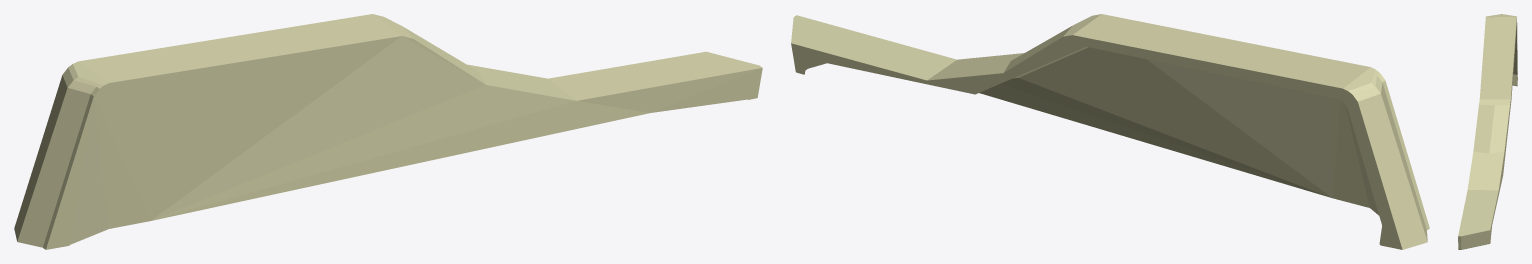
Rendered from jackpot_out_tray.fbx.
3 renders of one model, left to right at view 1: azimuth 30°, elevation 25°; view 2: azimuth 150°, elevation 25°; view 3: azimuth 270°, elevation 25°, orthographic. The views are drawn at different scales.
Visible parts, largest first — view 1: BézierCurve.002; view 2: BézierCurve.002; view 3: BézierCurve.002.
Part boxes in pixels (x1,y1,x2,y2): BézierCurve.002: (14, 14, 762, 249); BézierCurve.002: (791, 14, 1429, 249); BézierCurve.002: (1458, 14, 1517, 249).
Bounding box in the file's own units: 161 × 33.72 × 22.95.
